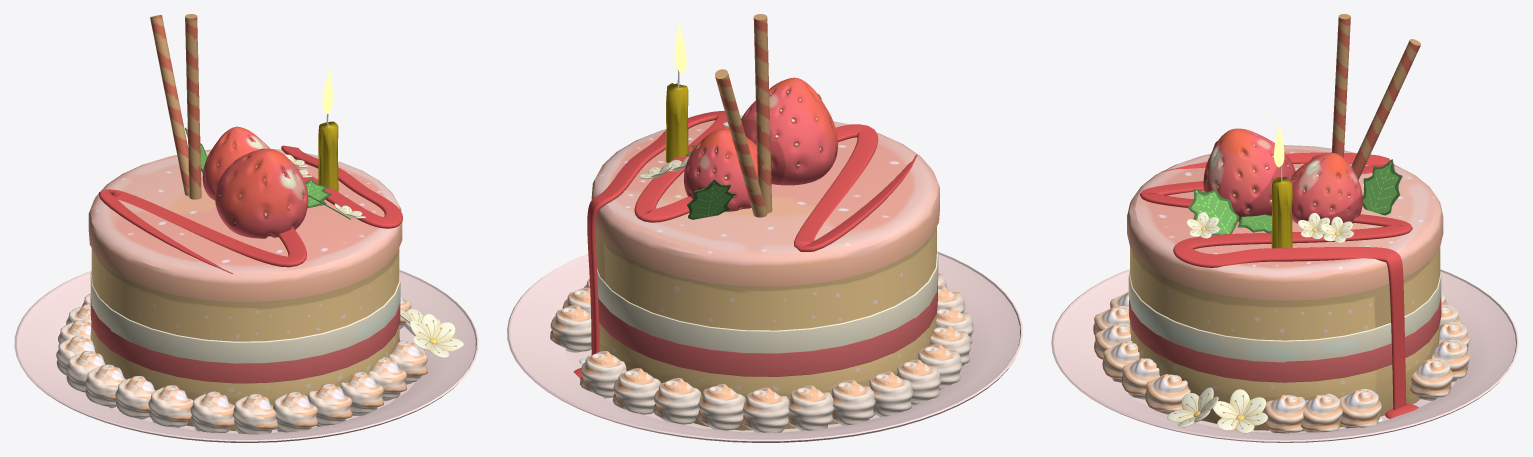
Rendered from cakee.gltf.
The picture shows the model from 3 angles, left to right: view 1: azimuth 30°, elevation 25°; view 2: azimuth 150°, elevation 25°; view 3: azimuth 270°, elevation 25°; orthographic projection. The views are drawn at different scales.
Parts seen in each view (by area): view 1: Cylinder.003_5, Cylinder_2, Sphere.016_15, Circle_7, Sphere.001_8, Cylinder.001_3, Cylinder.002_4, NurbsPath.001_16, Cylinder.005_12, Sphere.010_10, candle, Plane.002_9; view 2: Cylinder.003_5, Cylinder_2, Sphere.016_15, Circle_7, Sphere.001_8, NurbsPath.001_16, Cylinder.002_4, Cylinder.001_3, Cylinder.005_12, candle, Plane.002_9; view 3: Cylinder.003_5, Cylinder_2, Circle_7, Sphere.016_15, NurbsPath.001_16, Sphere.001_8, Cylinder.001_3, Cylinder.002_4, Sphere.010_10, Cylinder.005_12, Plane.002_9, candle.
Boxes of the visible parts, x1,y1,x2,y2 form: Cylinder.003_5: (88, 149, 402, 301); Cylinder_2: (90, 248, 399, 431); Sphere.016_15: (56, 293, 427, 434); Circle_7: (14, 270, 478, 442); Sphere.001_8: (202, 126, 308, 238); Cylinder.001_3: (90, 269, 400, 363); Cylinder.002_4: (90, 294, 400, 383); NurbsPath.001_16: (98, 145, 402, 273); Cylinder.005_12: (150, 14, 201, 199); Sphere.010_10: (285, 154, 463, 357); candle: (318, 121, 338, 191); Plane.002_9: (185, 127, 350, 219); Cylinder.003_5: (591, 115, 939, 286); Cylinder_2: (595, 226, 936, 430); Sphere.016_15: (550, 273, 973, 432); Circle_7: (507, 251, 1022, 442); Sphere.001_8: (684, 77, 837, 211); NurbsPath.001_16: (587, 111, 917, 355); Cylinder.002_4: (598, 282, 937, 376); Cylinder.001_3: (597, 252, 938, 353); Cylinder.005_12: (715, 14, 772, 217); candle: (665, 83, 688, 162); Plane.002_9: (686, 145, 735, 219); Cylinder.003_5: (1127, 145, 1443, 300); Cylinder_2: (1129, 247, 1440, 431); Circle_7: (1051, 269, 1518, 442); Sphere.016_15: (1093, 292, 1470, 433); NurbsPath.001_16: (1140, 152, 1412, 409); Sphere.001_8: (1203, 128, 1362, 224); Cylinder.001_3: (1128, 271, 1441, 362); Cylinder.002_4: (1129, 296, 1441, 382); Sphere.010_10: (1167, 212, 1353, 433); Cylinder.005_12: (1331, 14, 1420, 179); Plane.002_9: (1187, 159, 1402, 235); candle: (1271, 177, 1292, 248).
Size of the model in its own units: 3.15 by 2.57 by 3.15.
Materials: 16 (9 with a texture image).
